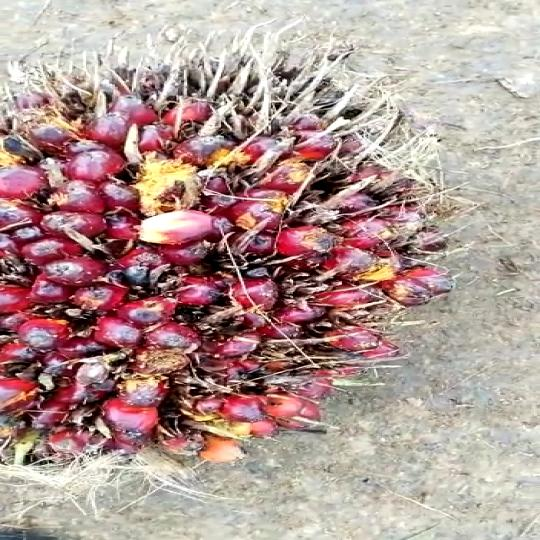masak: (0, 49, 465, 504)
